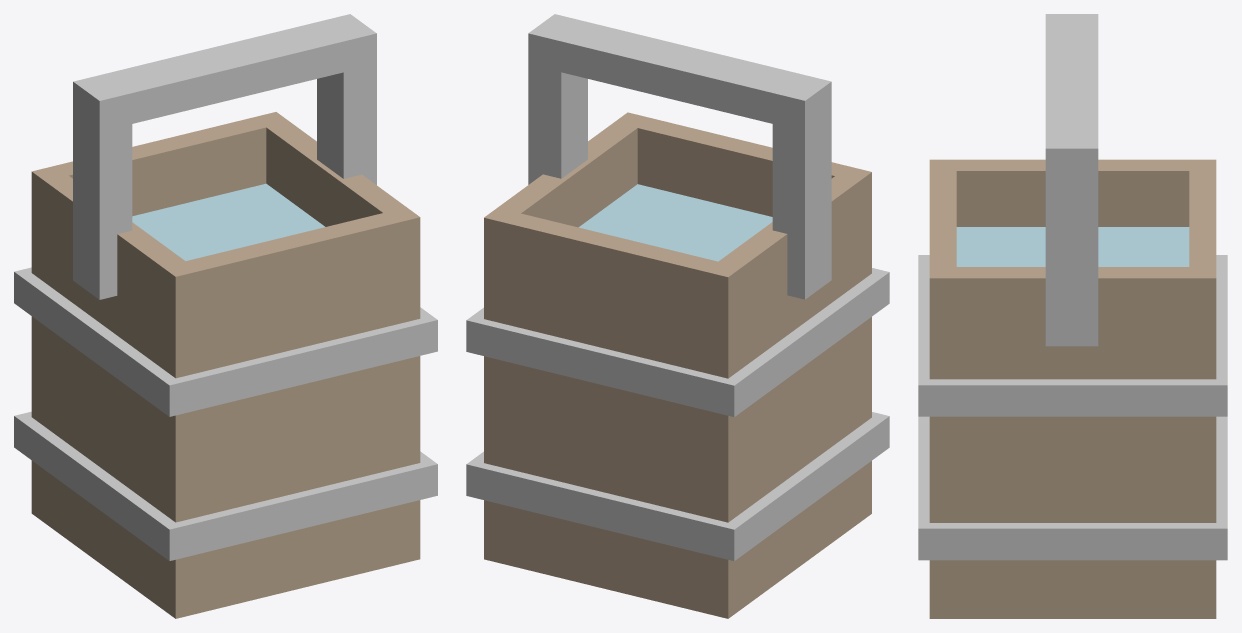
The model's file is bucket of water.fbx.
3 renders of one model, left to right at view 1: azimuth 30°, elevation 25°; view 2: azimuth 150°, elevation 25°; view 3: azimuth 270°, elevation 25°, orthographic.
Parts seen in each view (by area): view 1: zdq_5; view 2: zdq_5; view 3: zdq_5.
Boxes of the visible parts, x1,y1,x2,y2 form: zdq_5: (14,14,437,618); zdq_5: (466,14,889,618); zdq_5: (918,14,1227,618).
Size of the model in its own units: 147 by 244 by 143.
